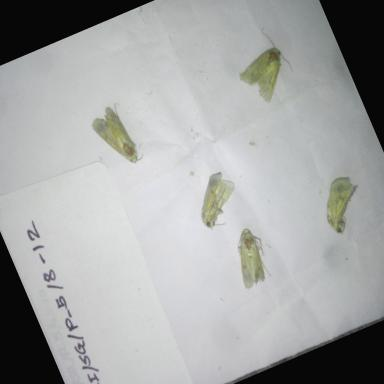abw: (222, 20, 304, 114), (82, 92, 150, 178), (184, 164, 252, 237), (310, 168, 377, 240), (220, 222, 278, 295)
